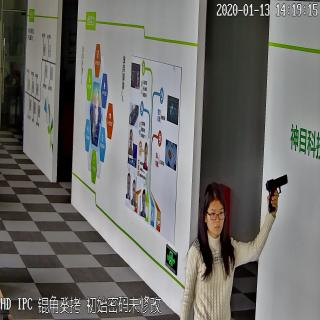gun: (263, 170, 290, 218)
